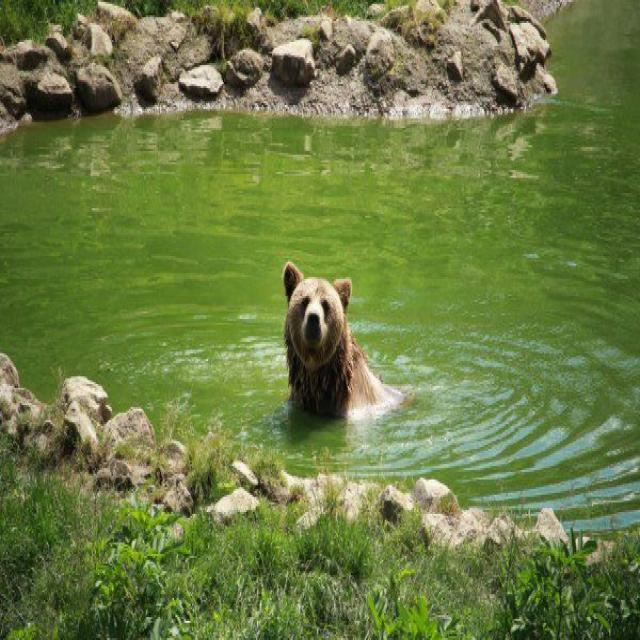bear: (283, 262, 400, 415)
